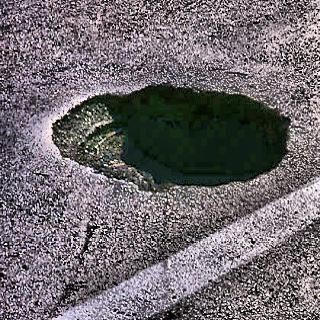pothole: (36, 70, 295, 212)
